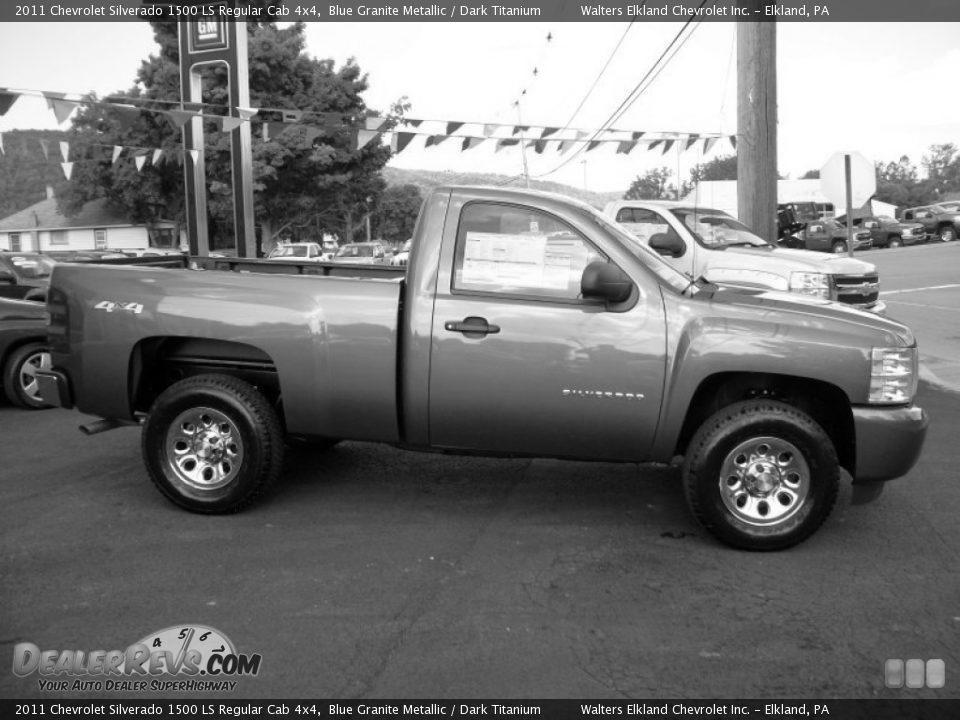car: (42, 183, 933, 555)
